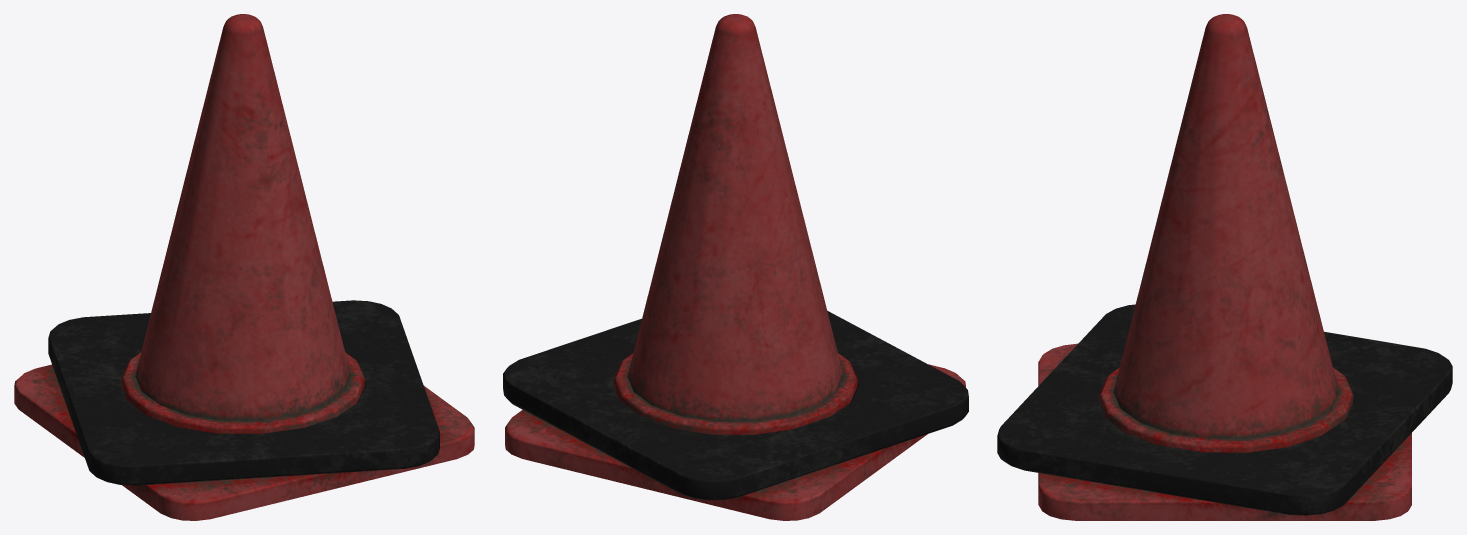
File: SM_TrafficCone.fbx
3 renders of one model, left to right at view 1: azimuth 30°, elevation 25°; view 2: azimuth 150°, elevation 25°; view 3: azimuth 270°, elevation 25°, orthographic. The views are drawn at different scales.
Visible parts, largest first — view 1: SM_TrafficCone_LOD0; view 2: SM_TrafficCone_LOD0; view 3: SM_TrafficCone_LOD0.
Part boxes in pixels (x1,y1,x2,y2): SM_TrafficCone_LOD0: (14,14,474,520); SM_TrafficCone_LOD0: (503,14,968,520); SM_TrafficCone_LOD0: (997,14,1452,520).
Size of the model in its own units: 48.67 by 48.74 by 50.
